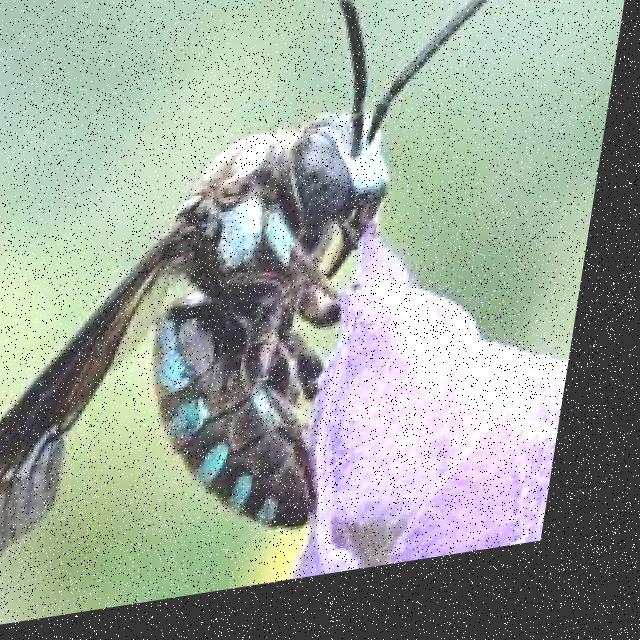Thyreus: (0, 0, 540, 609)
